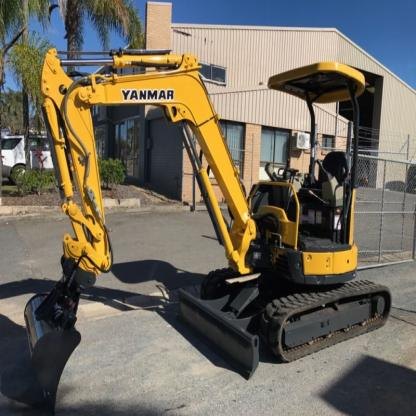excavator: (7, 19, 397, 410)
